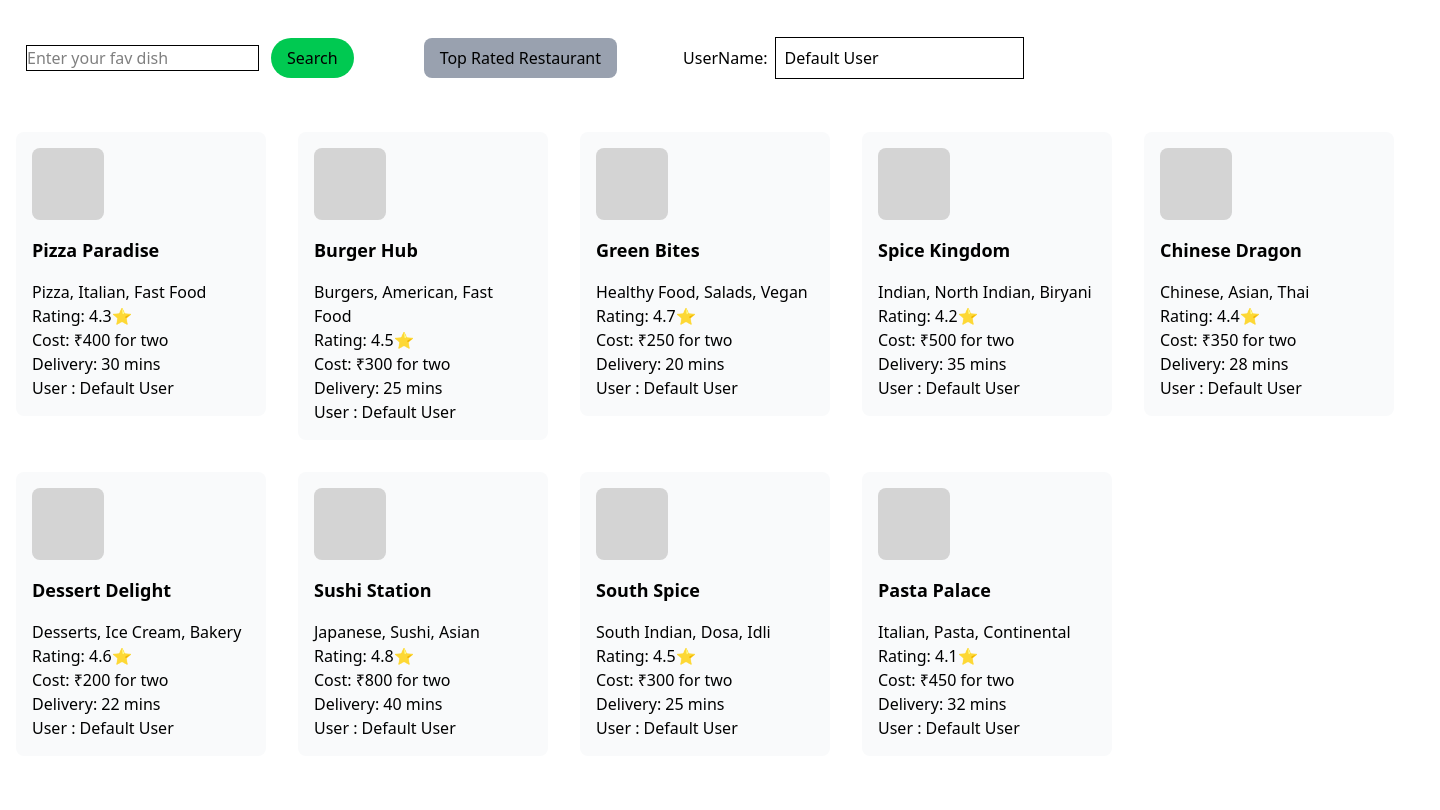
Test: Should filter Top Rated Restaurant
Click the button "Top Rated Restaurant". click: point(520, 58)
box: x1=424 y1=38 x2=617 y2=78
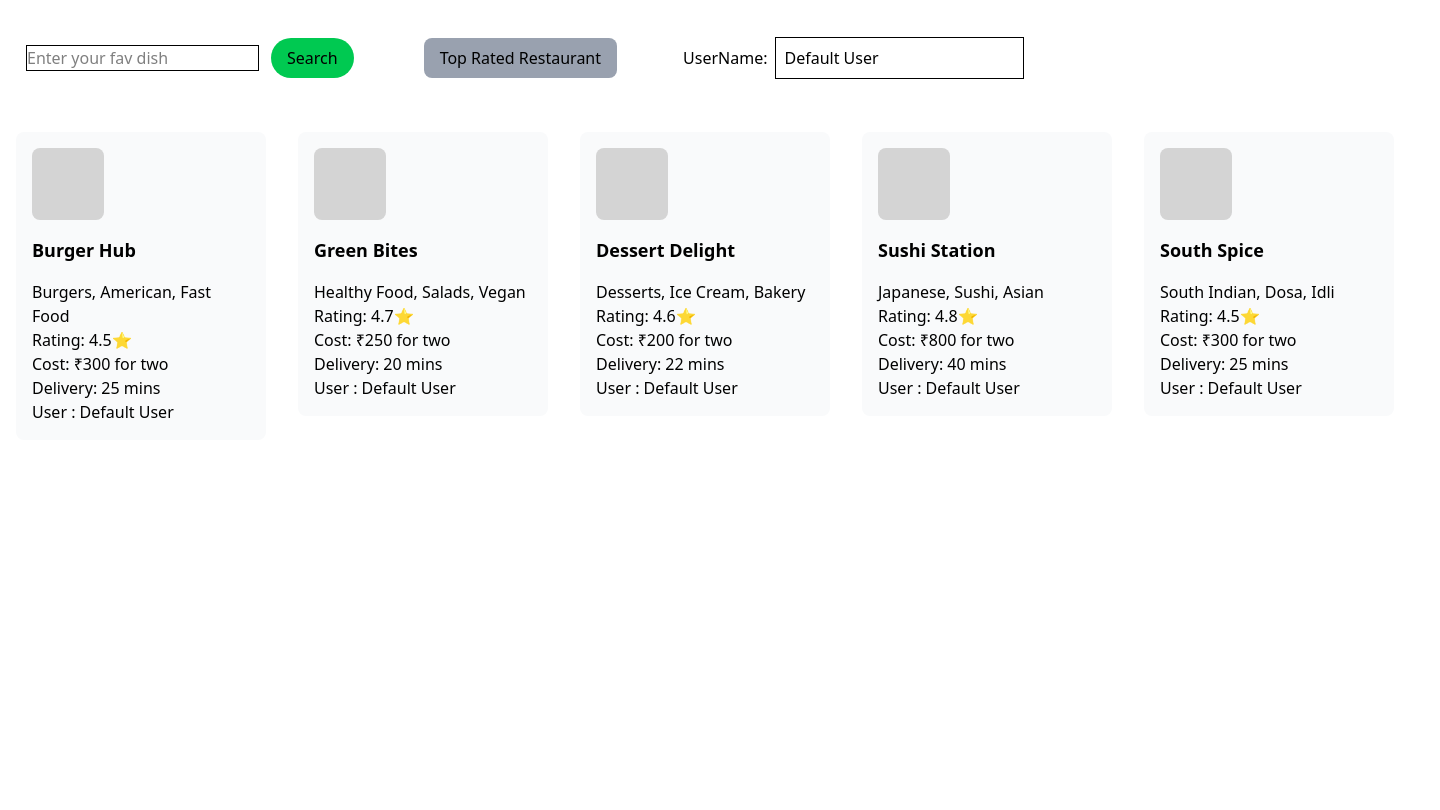
Expected: the number of elements with test id "resCard" is 5, x1=16 y1=132 x2=266 y2=440; x1=298 y1=132 x2=548 y2=416; x1=580 y1=132 x2=830 y2=416; x1=862 y1=132 x2=1112 y2=416; x1=1144 y1=132 x2=1394 y2=416
